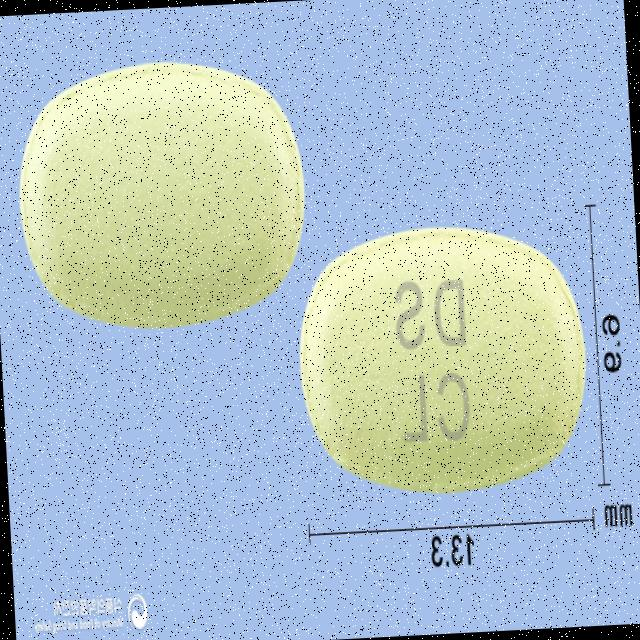Heracin: (292, 215, 592, 500), (12, 52, 312, 335)
